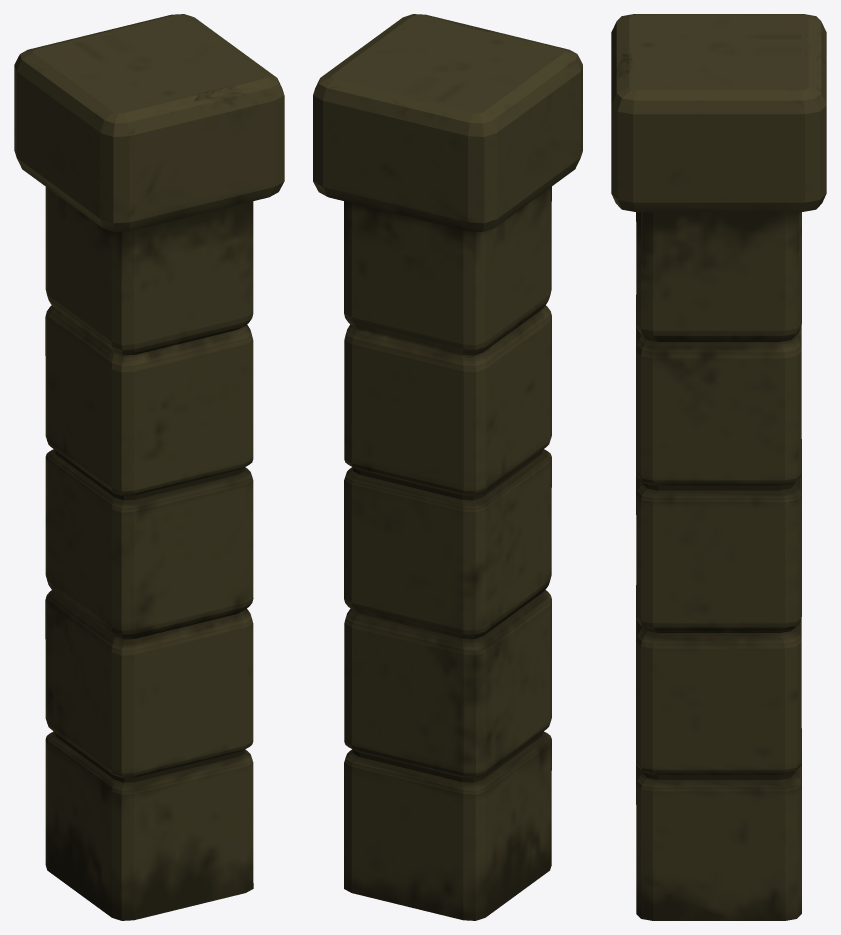
The model's file is Wall_Details.fbx.
The picture shows the model from 3 angles, left to right: view 1: azimuth 30°, elevation 25°; view 2: azimuth 150°, elevation 25°; view 3: azimuth 270°, elevation 25°; orthographic projection. The views are drawn at different scales.
Parts seen in each view (by area): view 1: Wall_Details; view 2: Wall_Details; view 3: Wall_Details.
Boxes of the visible parts, x1,y1,x2,y2 form: Wall_Details: (14,14,284,920); Wall_Details: (313,14,582,920); Wall_Details: (611,14,826,920).
Bounding box in the file's own units: 104 × 446 × 104.
Materials: 1 (1 with a texture image).
